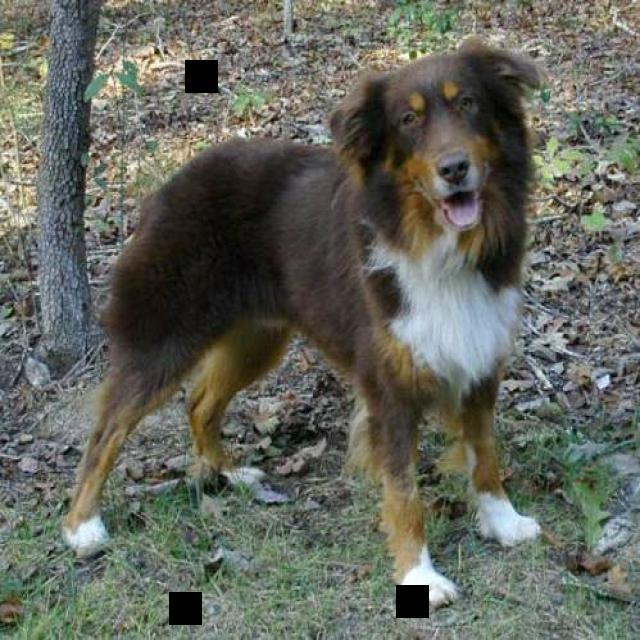adult_dog: (63, 35, 549, 609)
